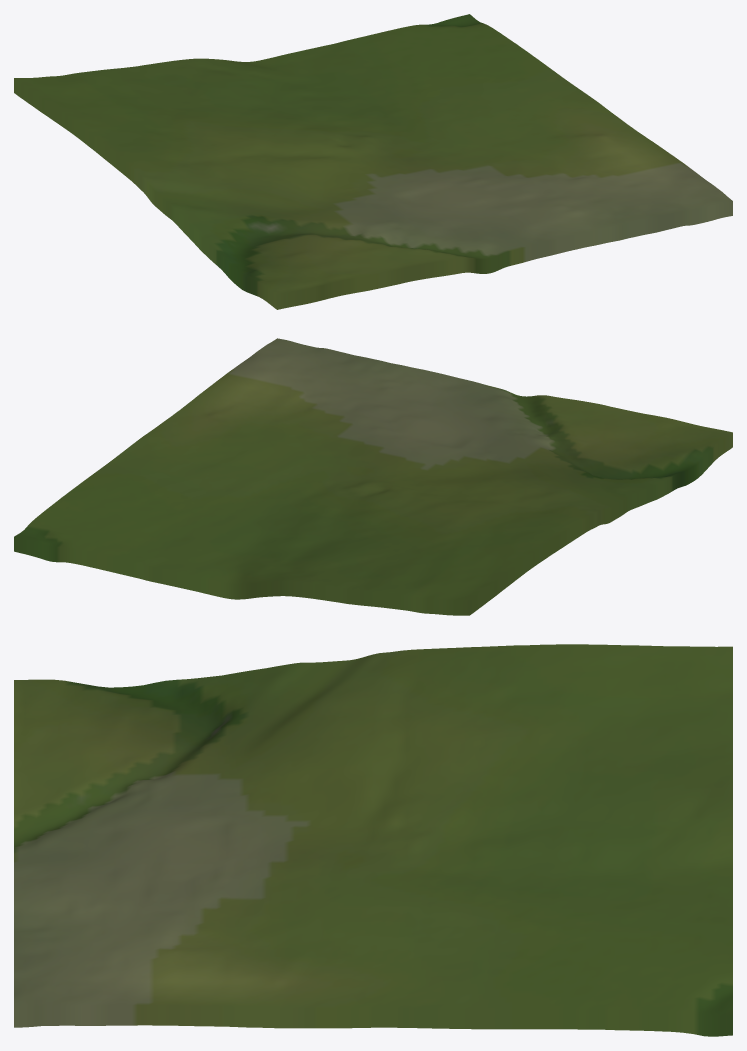
File: terrain_9_-12.glb
3 views of the same model, one above another, from view 1: azimuth 30°, elevation 25°; view 2: azimuth 150°, elevation 25°; view 3: azimuth 270°, elevation 25° (orthographic). The views are drawn at different scales.
Parts seen in each view (by area): view 1: terrain_9_-12; view 2: terrain_9_-12; view 3: terrain_9_-12.
Boxes of the visible parts, x1,y1,x2,y2 form: terrain_9_-12: (14,14,732,309); terrain_9_-12: (14,338,732,615); terrain_9_-12: (14,644,732,1036).
Bounding box in the file's own units: 256 × 34.88 × 256.
